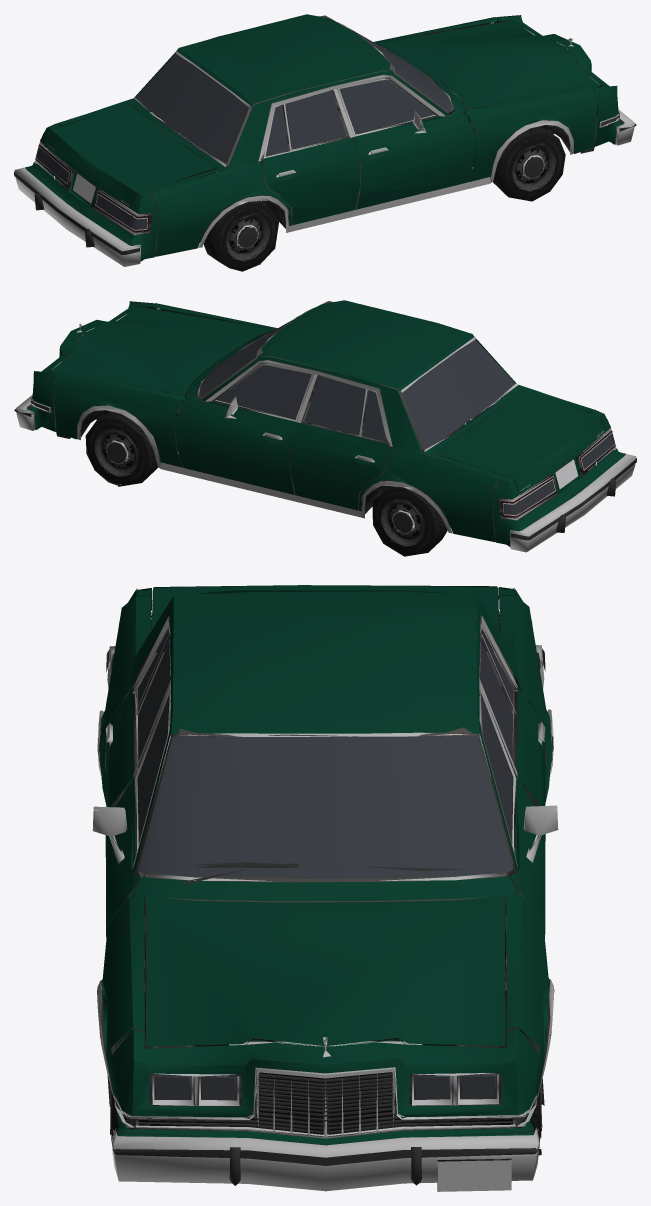
The model's file is car_negotiator.glb.
3 views of the same model, one above another, from view 1: azimuth 30°, elevation 25°; view 2: azimuth 150°, elevation 25°; view 3: azimuth 270°, elevation 25° (orthographic). The views are drawn at different scales.
Parts seen in each view (by area): view 1: car_negotiator; view 2: car_negotiator; view 3: car_negotiator.
Boxes of the visible parts, x1=… form: car_negotiator: x1=14, y1=14, x2=636, y2=271; car_negotiator: x1=14, y1=300, x2=636, y2=556; car_negotiator: x1=92, y1=585, x2=558, y2=1191.
Size of the model in its own units: 4.94 by 1.39 by 1.87.
7 materials, 3 textured.
